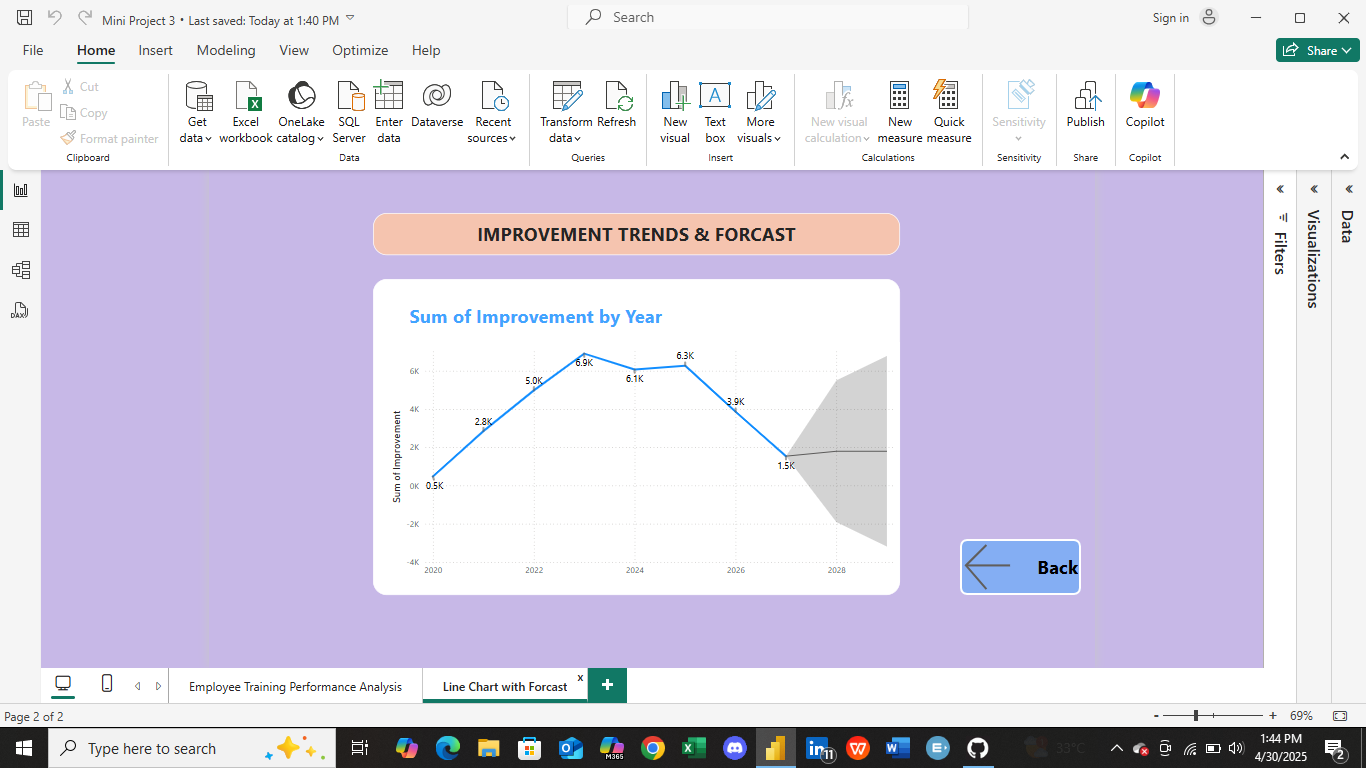

The page's visual inventory and layout, read from the dashboard file:
{"tool":"powerbi","page":{"name":"Line Chart with Forcast","canvas":[1280,720],"ordinal":1},"visuals":[{"type":"textbox","box":[237.1,62.5,761.9,60.7],"z":0},{"type":"textbox","box":[237.1,158,761.9,456.9],"z":1000},{"type":"lineChart","fields":{"Y":["Sum(employee_training_performance_d.Improvement)"],"Category":["employee_training_performance_d.Training_Date.Variation.Date Hierarchy.Year"]},"box":[258.8,249.1,740.2,348.4],"z":2000},{"type":"textbox","box":[284.8,186.9,482.9,62.2],"z":3000},{"type":"actionButton","box":[1085.8,533.5,174.9,81],"z":3001}]}

Visuals, with their boxes on the page's 1280x720 design canvas (x1, y1, x2, y2). These are canvas units, not pixel positions in the 1366x768 screenshot, which may show the page scaled, cropped or inside an application window:
textbox: l=237, t=62, r=999, b=123
textbox: l=237, t=158, r=999, b=615
lineChart - Sum(employee_training_performance_d.Improvement) x employee_training_performance_d.Training_Date.Variation.Date Hierarchy.Year: l=259, t=249, r=999, b=598
textbox: l=285, t=187, r=768, b=249
actionButton: l=1086, t=534, r=1261, b=614
